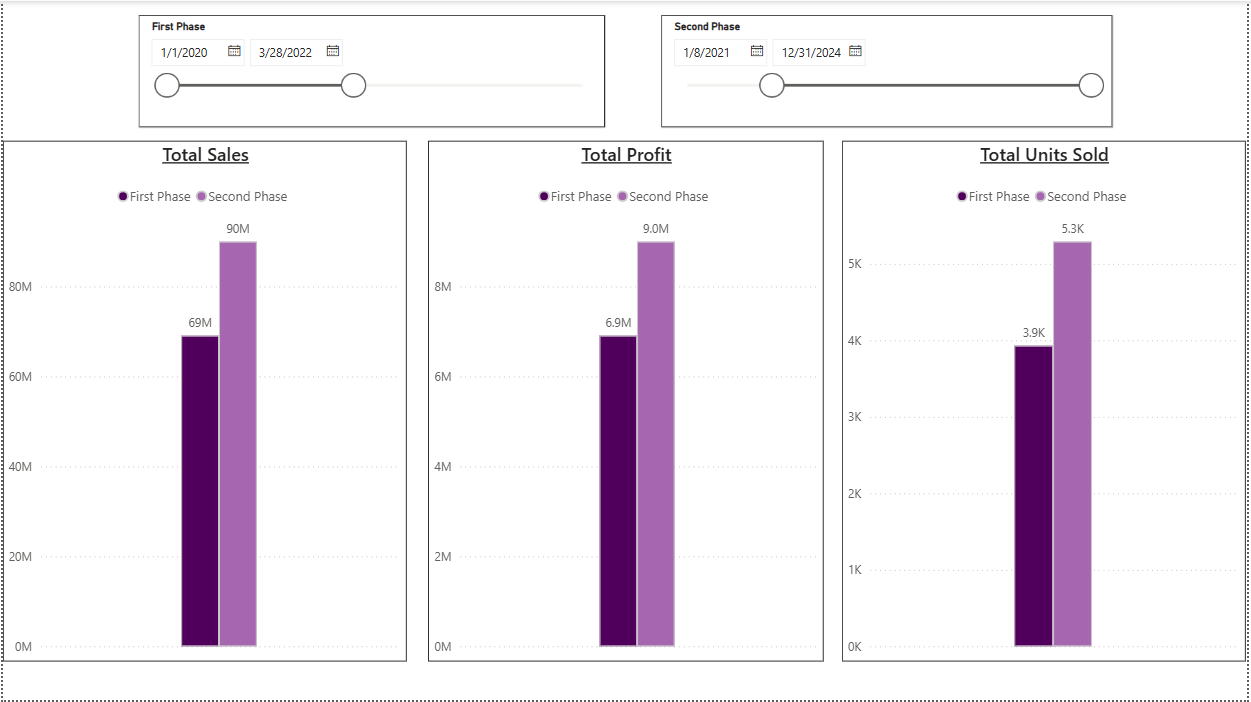

Layout of this report page (visuals, bound fields, positions):
{"tool":"powerbi","page":{"name":"Compare by Date Window","canvas":[1280,720],"ordinal":2},"visuals":[{"type":"slicer","fields":{"Values":["Date Table 1.Date"]},"box":[140,14.3,480,115.7],"z":0},{"type":"slicer","fields":{"Values":["Date Table 2.Date"]},"box":[677.1,14.3,464.3,115.7],"z":1000},{"type":"clusteredColumnChart","title":"Total Sales","fields":{"Y":["Sum(Fact Table.Net Sales)","Date Table 1.Sum of Net Sales"]},"box":[0,144.3,415.7,535.7],"z":2000},{"type":"clusteredColumnChart","title":"Total Profit","fields":{"Y":["Sum(Fact Table.Profit)","Measures Table.Total Profit"]},"box":[437.1,144.3,407.1,535.7],"z":3000},{"type":"clusteredColumnChart","title":"Total Units Sold","fields":{"Y":["Sum(Fact Table.Units Sold)","Measures Table.Total Units Sold"]},"box":[864.3,144.3,415.7,535.7],"z":4000}]}

Visuals, with their boxes in screenshot pixels (x1, y1, x2, y2), scaled from the page's 1280x720 canvas onto the 1251x702 screenshot:
slicer - Date Table 1.Date: left=137, top=14, right=606, bottom=127
slicer - Date Table 2.Date: left=662, top=14, right=1116, bottom=127
"Total Sales" clusteredColumnChart: left=0, top=141, right=406, bottom=663
"Total Profit" clusteredColumnChart: left=427, top=141, right=825, bottom=663
"Total Units Sold" clusteredColumnChart: left=845, top=141, right=1250, bottom=663
